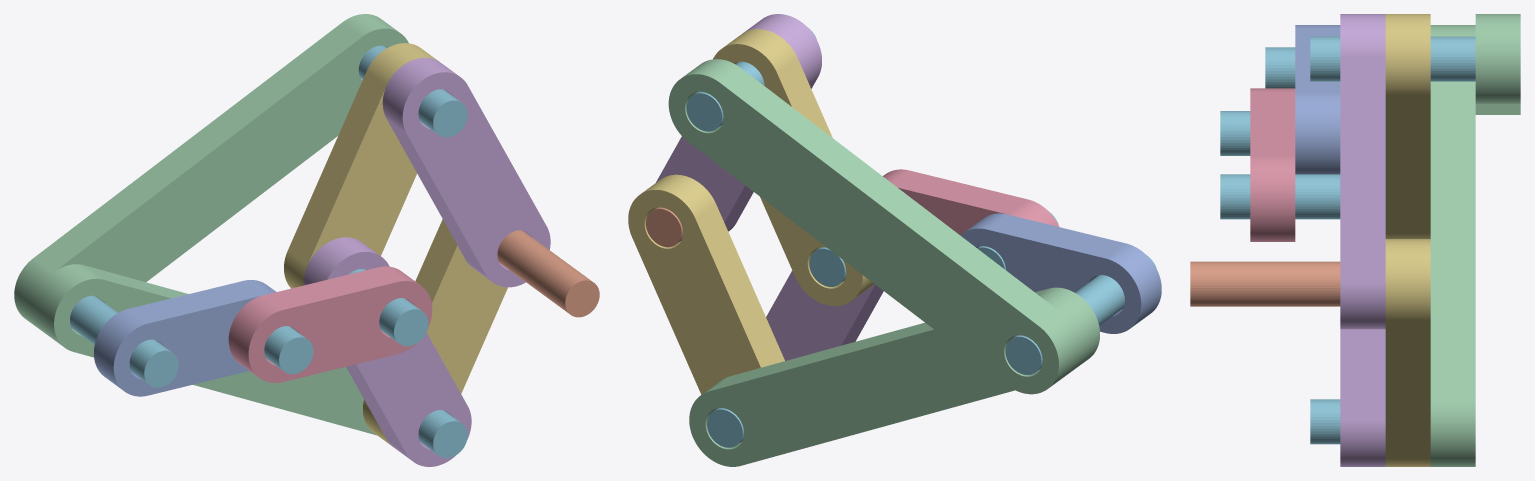
The model's file is peaucellier_linkage_demo.glb.
3 renders of one model, left to right at view 1: azimuth 30°, elevation 25°; view 2: azimuth 150°, elevation 25°; view 3: azimuth 270°, elevation 25°, orthographic. The views are drawn at different scales.
Parts seen in each view (by area): view 1: anchor_link_a, rhombus_aq, rhombus_pa, crank, anchor_link_b, ground_link, rhombus_pb, rhombus_bq, tracer_q, pin_o, pin_a, pin_p (+2 smaller); view 2: anchor_link_a, anchor_link_b, rhombus_bq, ground_link, rhombus_pa, rhombus_pb, rhombus_aq, crank, pin_o, pin_a, pin_b, tracer_q (+1 smaller); view 3: anchor_link_b, rhombus_aq, rhombus_bq, rhombus_pa, crank, tracer_q, rhombus_pb, ground_link, anchor_link_a, pin_p, pin_a, pin_b (+2 smaller).
Part boxes in pixels (left/top/right/bottom): anchor_link_a: left=14, top=14, right=408, bottom=330; rhombus_aq: left=382, top=57, right=550, bottom=287; rhombus_pa: left=284, top=43, right=437, bottom=288; crank: left=228, top=266, right=432, bottom=382; anchor_link_b: left=34, top=264, right=376, bottom=435; ground_link: left=94, top=280, right=276, bottom=396; rhombus_pb: left=303, top=237, right=471, bottom=466; rhombus_bq: left=363, top=219, right=507, bottom=445; tracer_q: left=497, top=230, right=599, bottom=317; pin_o: left=70, top=295, right=178, bottom=387; pin_a: left=358, top=45, right=467, bottom=137; pin_p: left=349, top=269, right=428, bottom=346; anchor_link_a: left=668, top=59, right=1079, bottom=394; anchor_link_b: left=689, top=287, right=1099, bottom=466; rhombus_bq: left=628, top=174, right=784, bottom=394; ground_link: left=960, top=213, right=1161, bottom=333; rhombus_pa: left=713, top=29, right=873, bottom=306; rhombus_pb: left=766, top=270, right=883, bottom=360; rhombus_aq: left=656, top=14, right=821, bottom=231; crank: left=883, top=169, right=1059, bottom=235; pin_o: left=1005, top=255, right=1156, bottom=374; pin_a: left=686, top=27, right=816, bottom=131; pin_b: left=707, top=408, right=743, bottom=447; tracer_q: left=646, top=207, right=682, bottom=247; anchor_link_b: left=1430, top=25, right=1475, bottom=466; rhombus_aq: left=1340, top=14, right=1385, bottom=329; rhombus_bq: left=1385, top=239, right=1430, bottom=466; rhombus_pa: left=1385, top=14, right=1430, bottom=238; crank: left=1250, top=88, right=1295, bottom=241; tracer_q: left=1190, top=261, right=1340, bottom=306; rhombus_pb: left=1340, top=329, right=1385, bottom=466; ground_link: left=1295, top=25, right=1340, bottom=174; anchor_link_a: left=1475, top=14, right=1520, bottom=114; pin_p: left=1220, top=174, right=1340, bottom=219; pin_a: left=1310, top=36, right=1475, bottom=81; pin_b: left=1310, top=399, right=1340, bottom=444.
Size of the model in its own units: 39.75 by 32.66 by 22.
